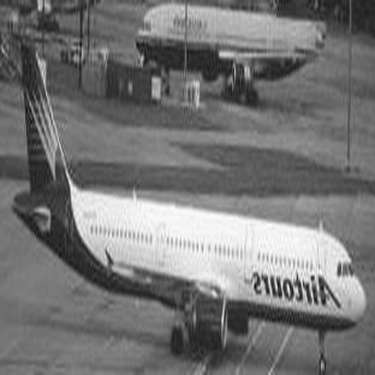airplane: (10, 24, 369, 369), (97, 6, 336, 90)
